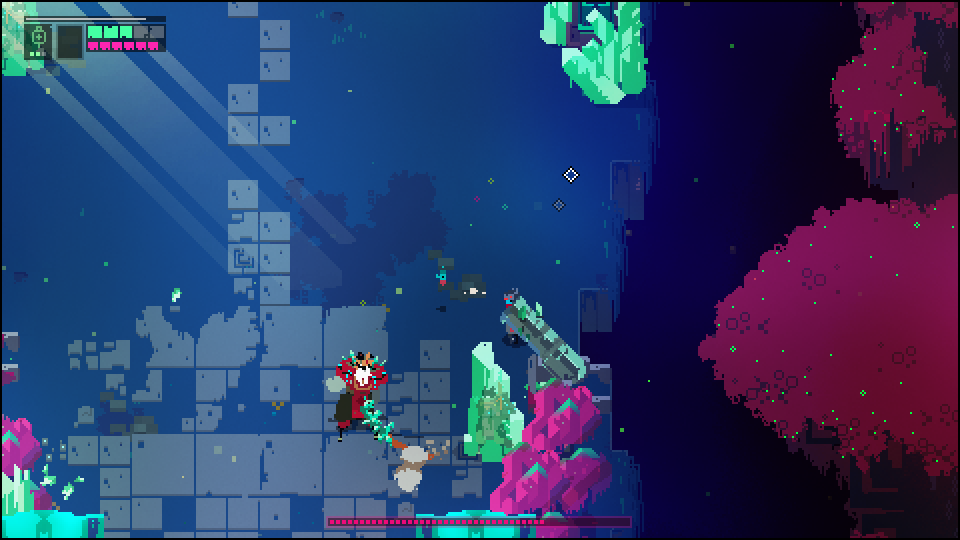hanged_man: (322, 342, 402, 454)
player: (499, 288, 524, 339)
